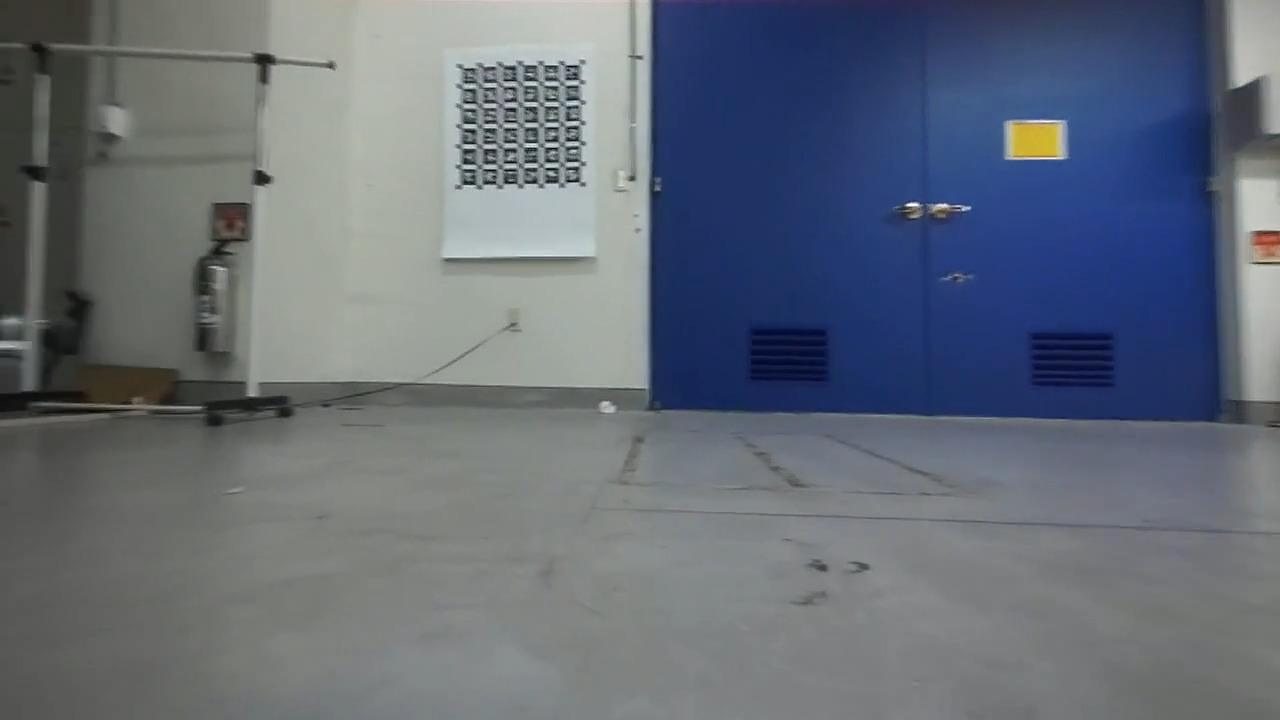crazyflie: (934, 265, 980, 289)
